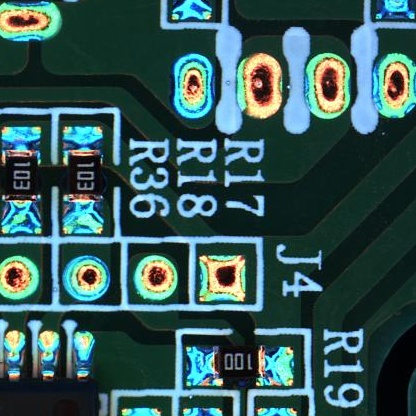spot: (236, 52, 283, 121), (304, 52, 350, 120), (372, 51, 416, 121), (171, 52, 215, 119), (197, 254, 246, 302), (60, 254, 110, 301), (134, 253, 178, 301), (1, 255, 39, 300)
